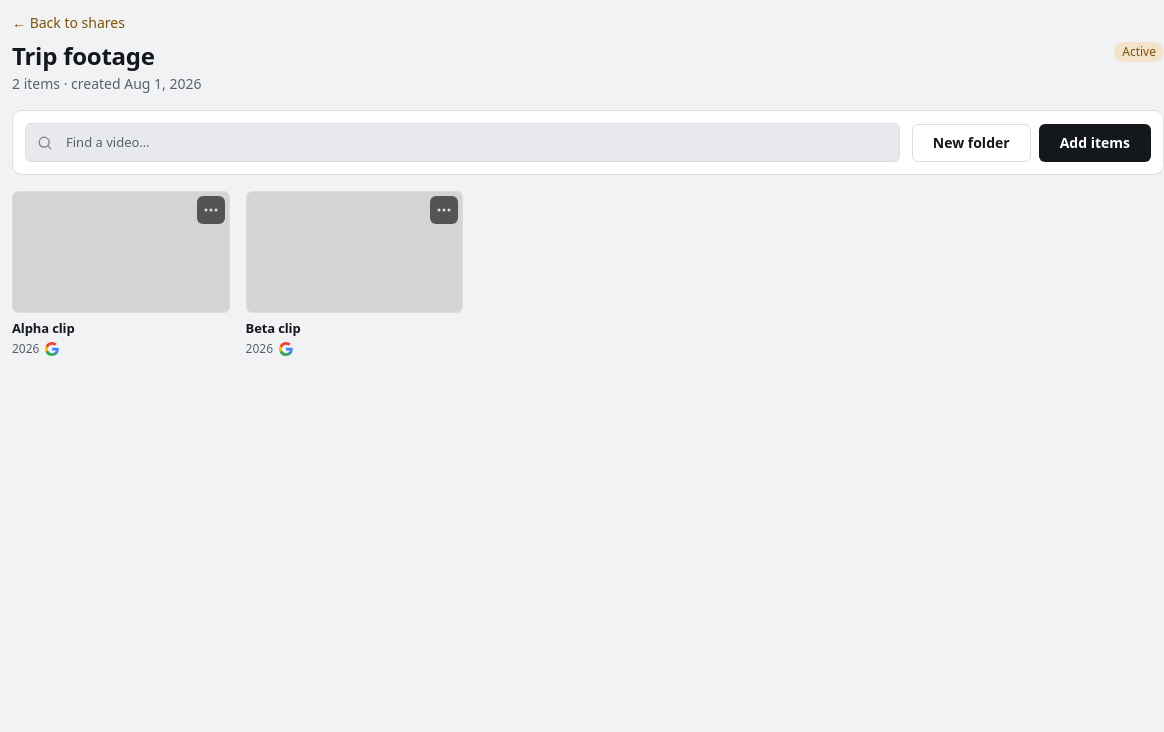
Test: ShareManagePage › removes via the granular DELETE, refetches, and offers undo
Click the button named "more actions for alpha clip" at x=211, y=210, box [197,196,225,224]
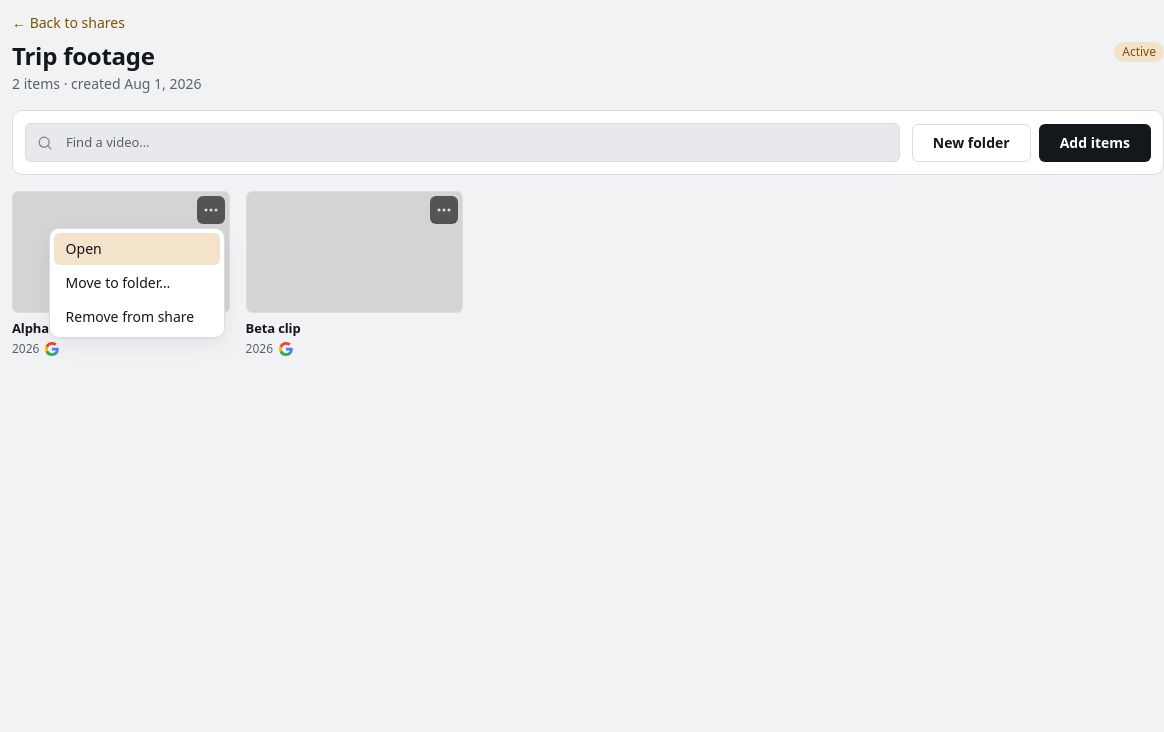
Click the menu item "Remove from share" at x=137, y=317, box [54,301,220,333]
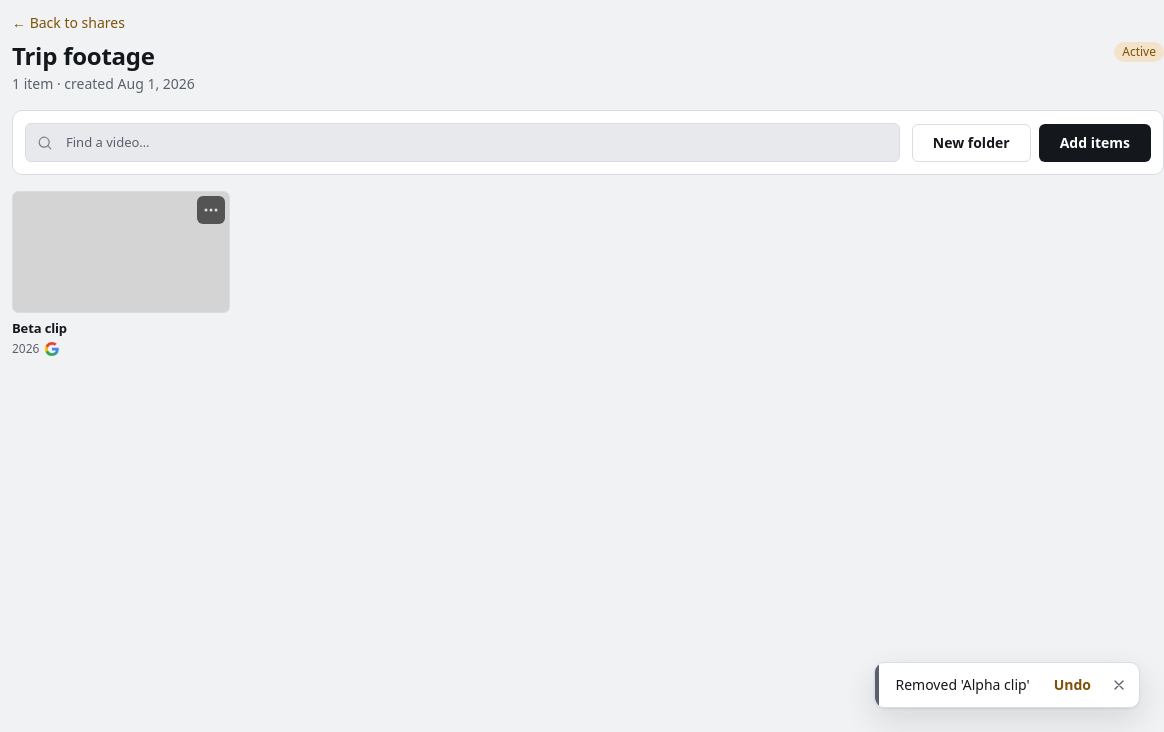
Result: the text "Removed 'Alpha clip'" is shown at [896,675,1030,694]
Result: the number of buttons "Undo" is 1 at [1046,675,1099,695]
